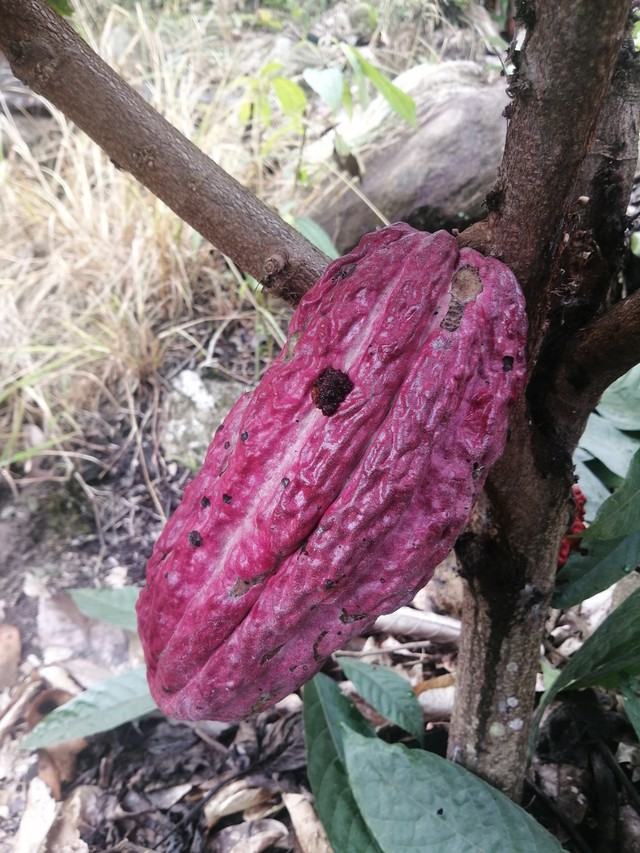carmenta foraseminis: (136, 218, 536, 727)
